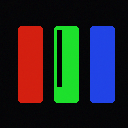4 line_v: (57, 30, 61, 86)
